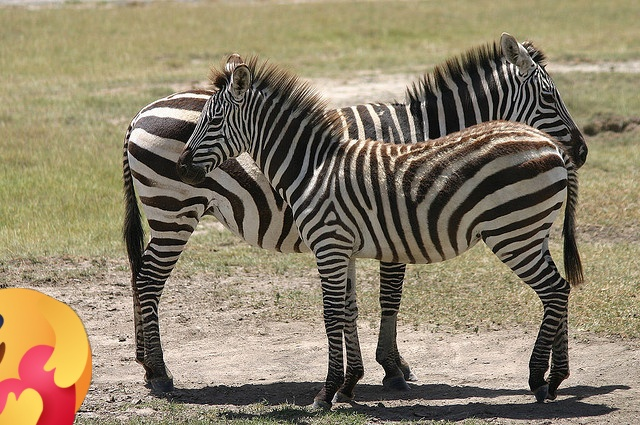care: (0, 288, 92, 425)
